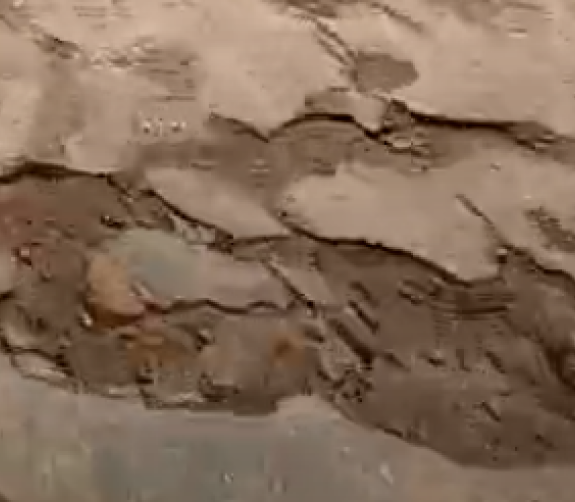Berlubang: (1, 130, 575, 479), (189, 85, 567, 187)
